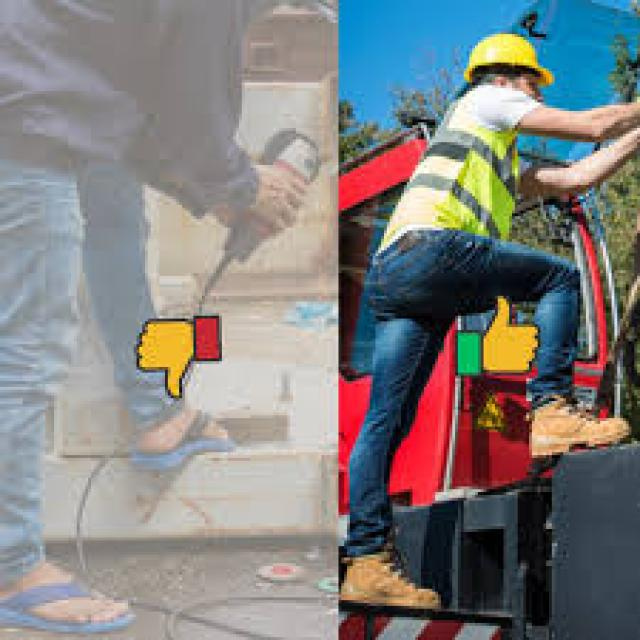shoes: (520, 393, 634, 460), (332, 553, 443, 613)
